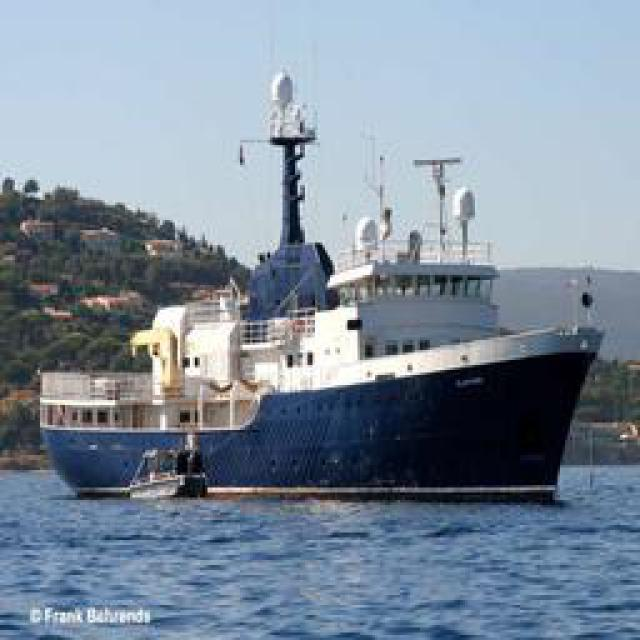Ship: (36, 108, 619, 493)
